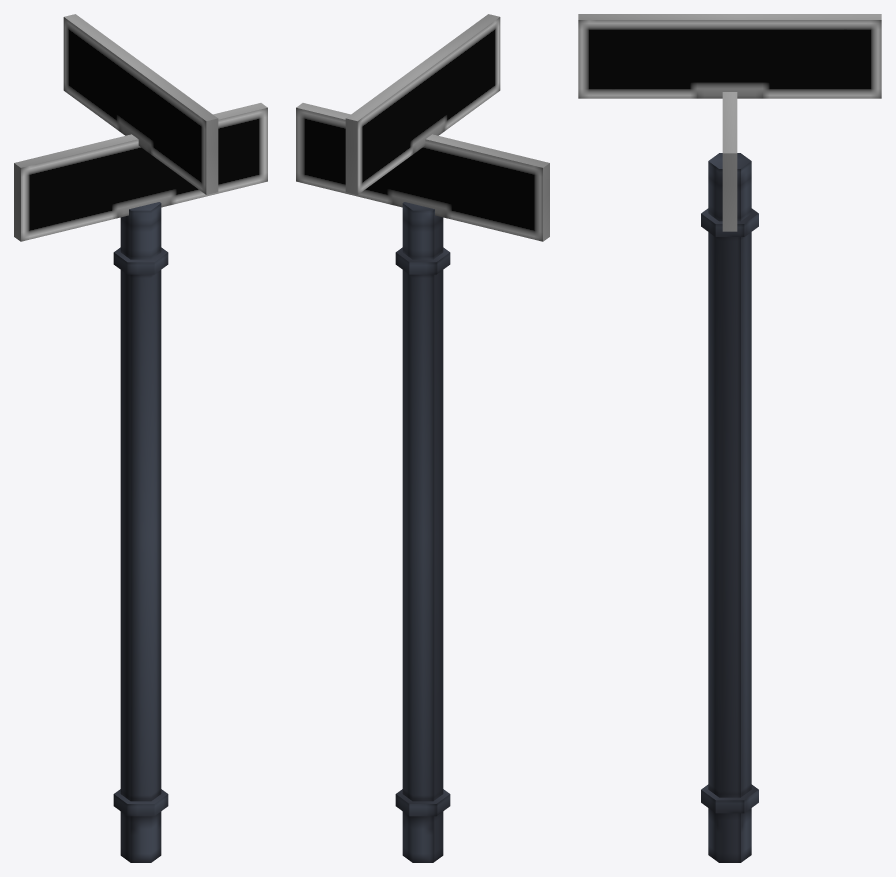
Rendered from StreetSign_Double.fbx.
3 renders of one model, left to right at view 1: azimuth 30°, elevation 25°; view 2: azimuth 150°, elevation 25°; view 3: azimuth 270°, elevation 25°, orthographic. The views are drawn at different scales.
Visible parts, largest first — view 1: StreetSign_Double; view 2: StreetSign_Double; view 3: StreetSign_Double.
Boxes of the visible parts, <box> form: StreetSign_Double: <box>14,14,267,862</box>; StreetSign_Double: <box>296,14,549,862</box>; StreetSign_Double: <box>578,14,881,862</box>.
Size of the model in its own units: 10.5 by 32 by 10.5.
